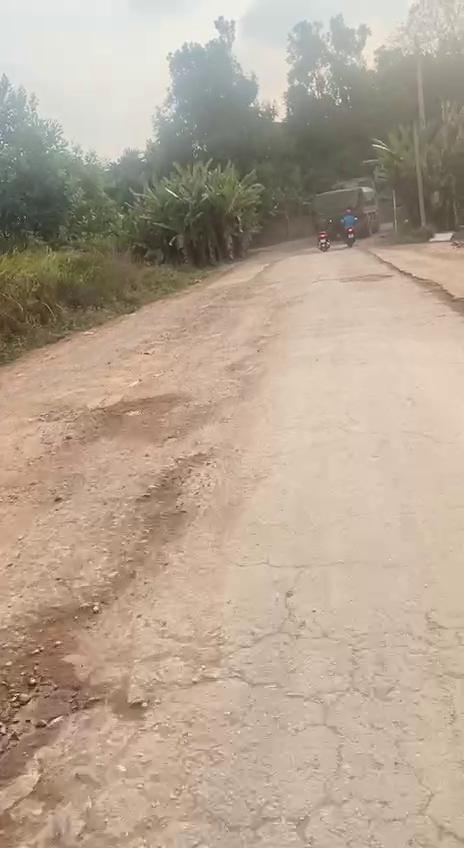pothole: (0, 652, 114, 806)
